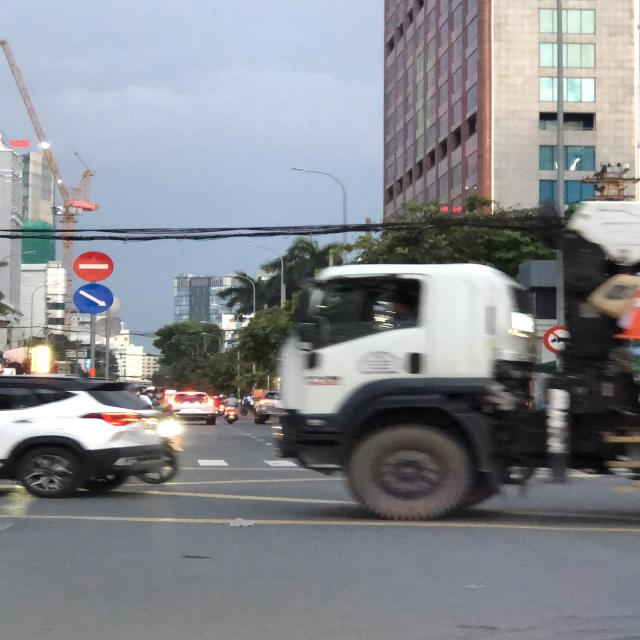Bien bao cam di nguoc chieu: (72, 250, 112, 282)
Bien bao huong phai di vong chuong ngai vat: (73, 282, 116, 316)
